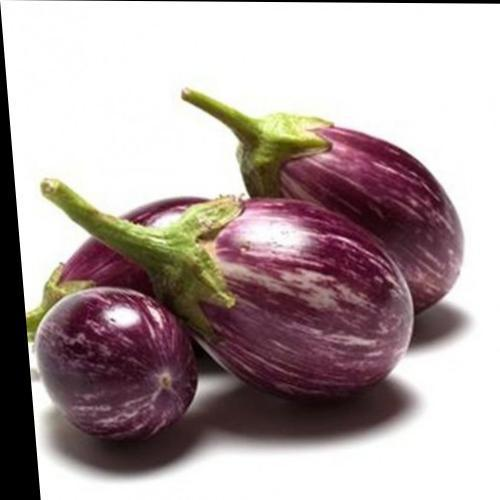eggplant: (57, 174, 432, 414), (32, 196, 400, 434), (190, 70, 469, 300), (19, 283, 204, 456)
